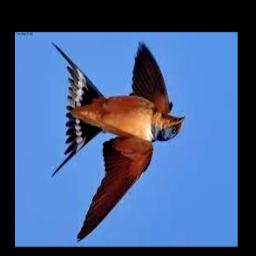Swallow: (51, 42, 189, 243)
